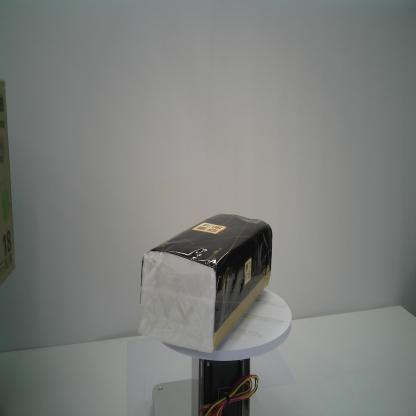Tissue: (135, 210, 274, 356)
